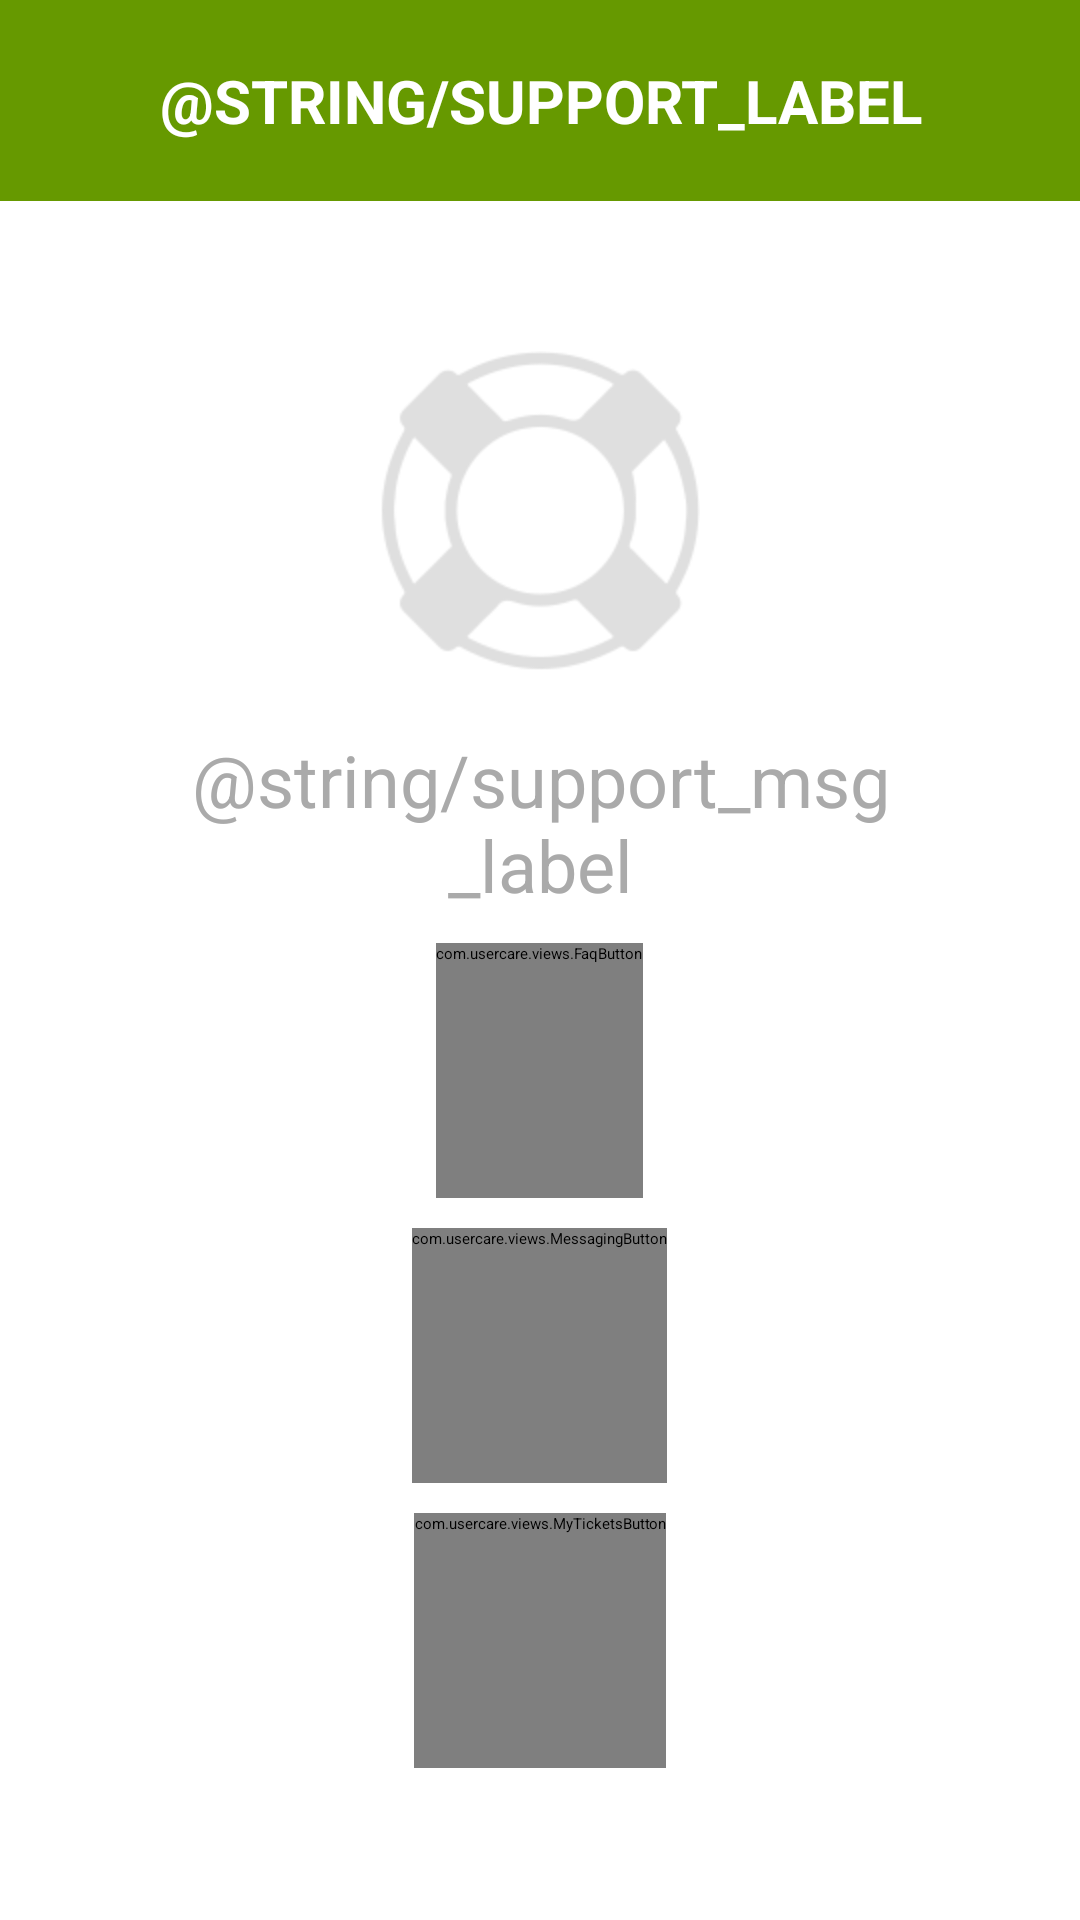

Icon click points for this 1080*1920 phone screenshot, format (x,y):
lifesaver: (540,511)
